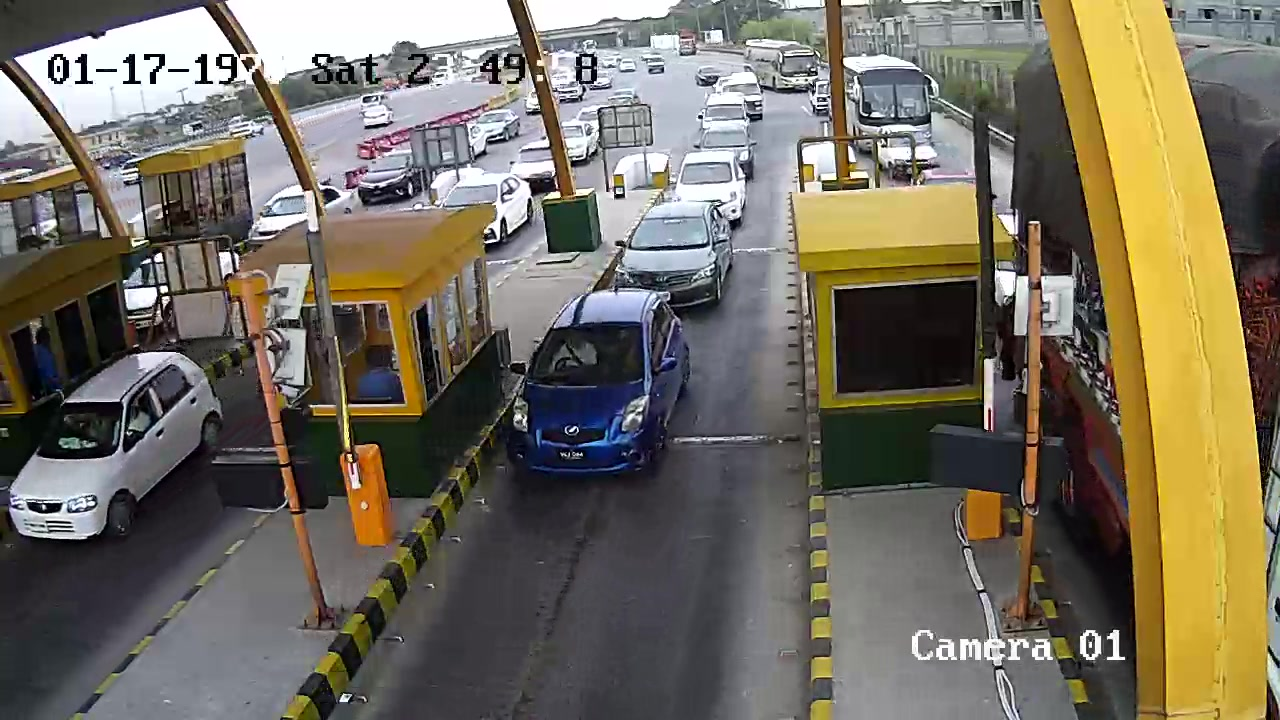F1: (495, 288, 701, 491)
